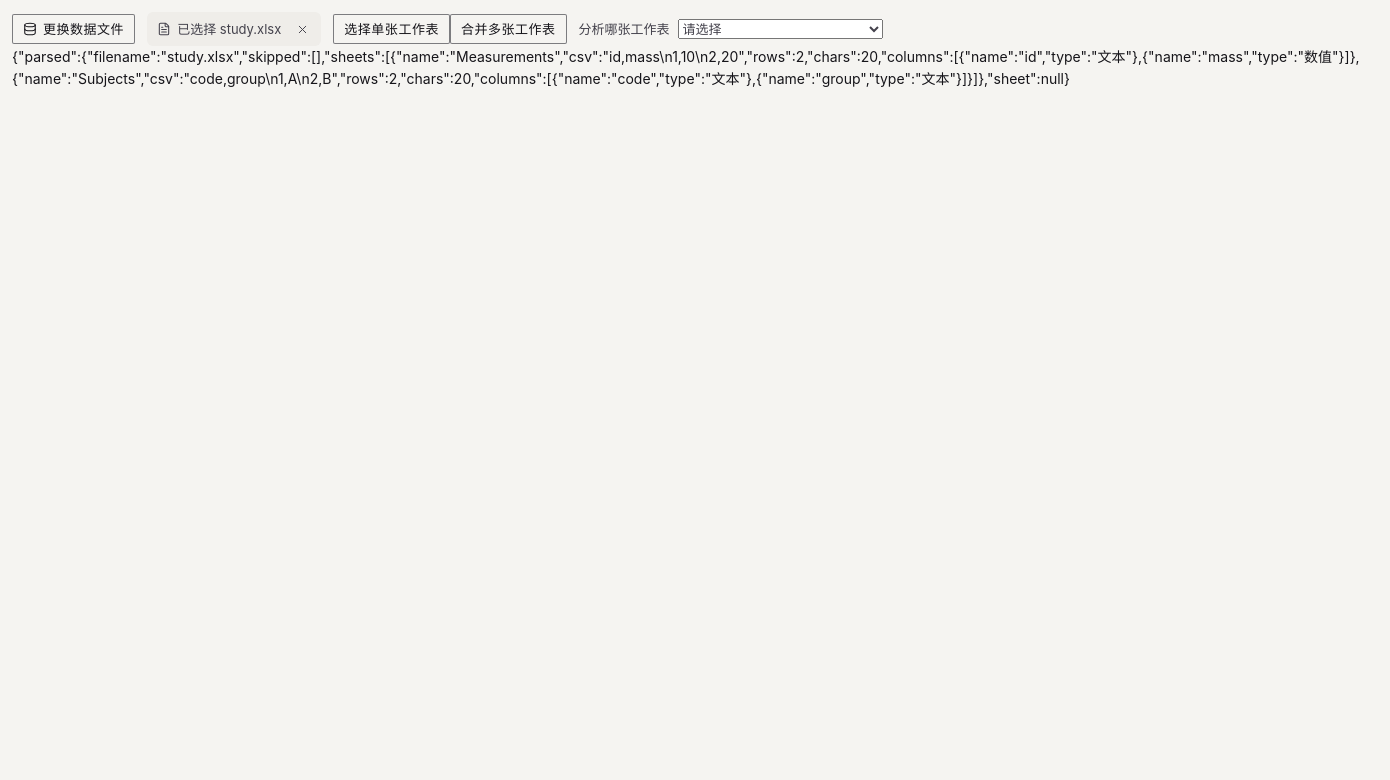
Test: keeps failed joins unavailable for task creation and displays the reason
Click the button "合并多张工作表": [508, 29] box [450, 14, 567, 44]
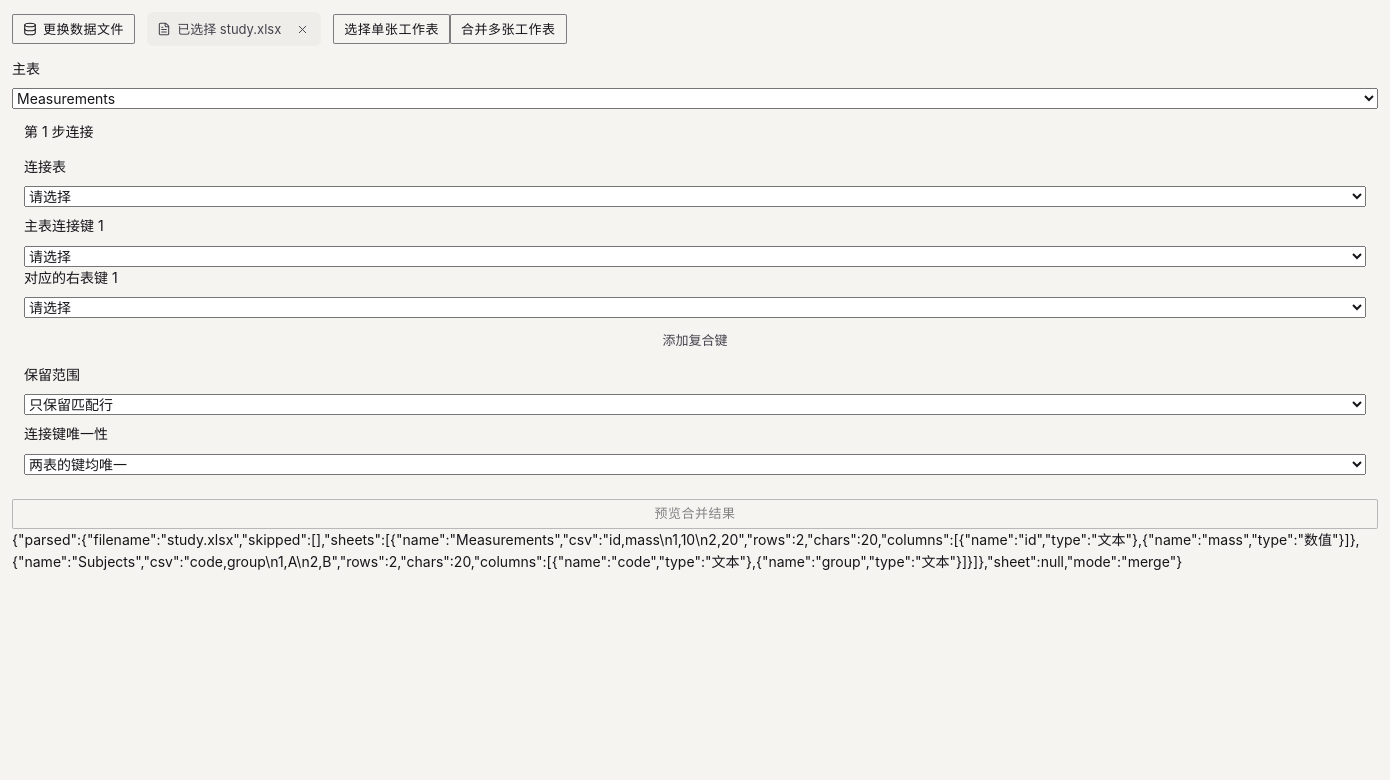
Select "Subjects" in the dropdown named "连接表 第1步": [695, 197] box [24, 186, 1366, 207]
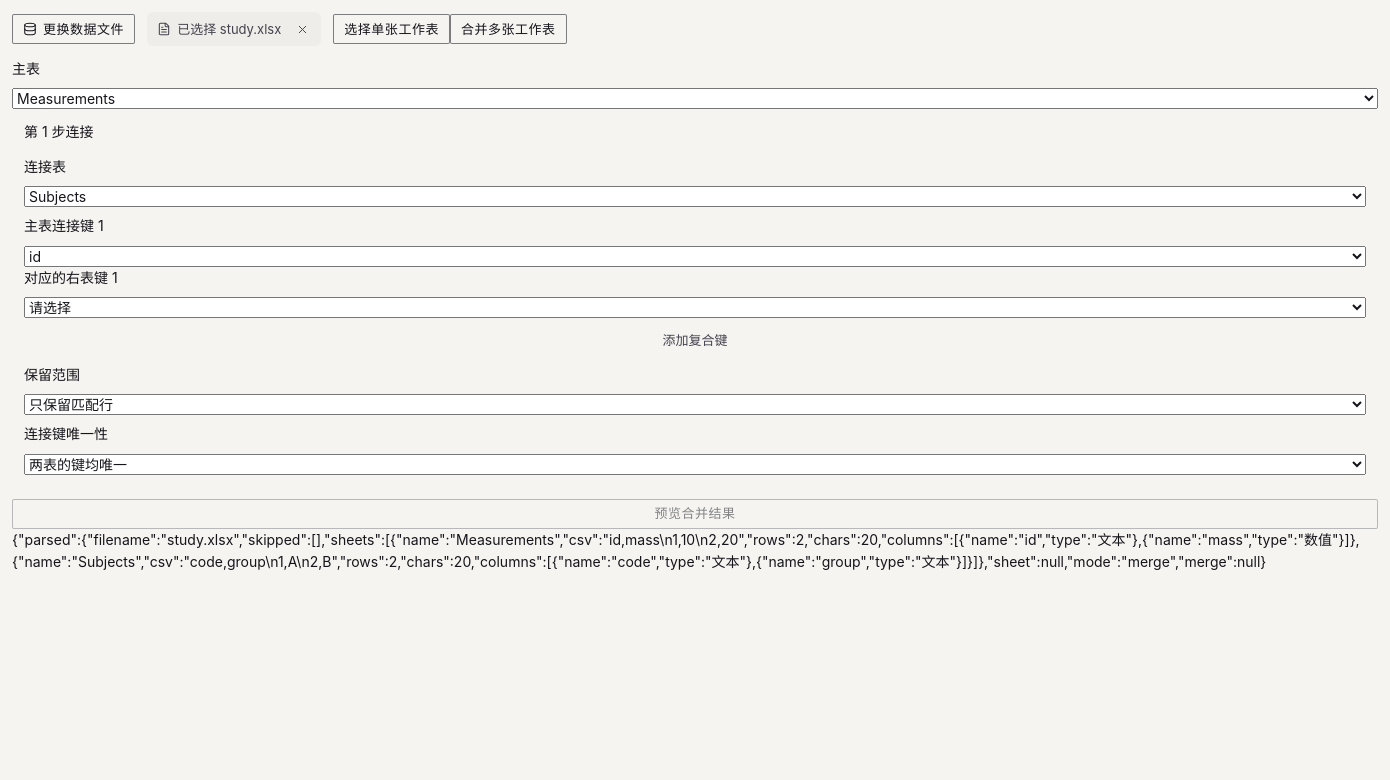
Select "id" in the dropdown named "主表连接键 第1步": [695, 256] box [24, 246, 1366, 267]
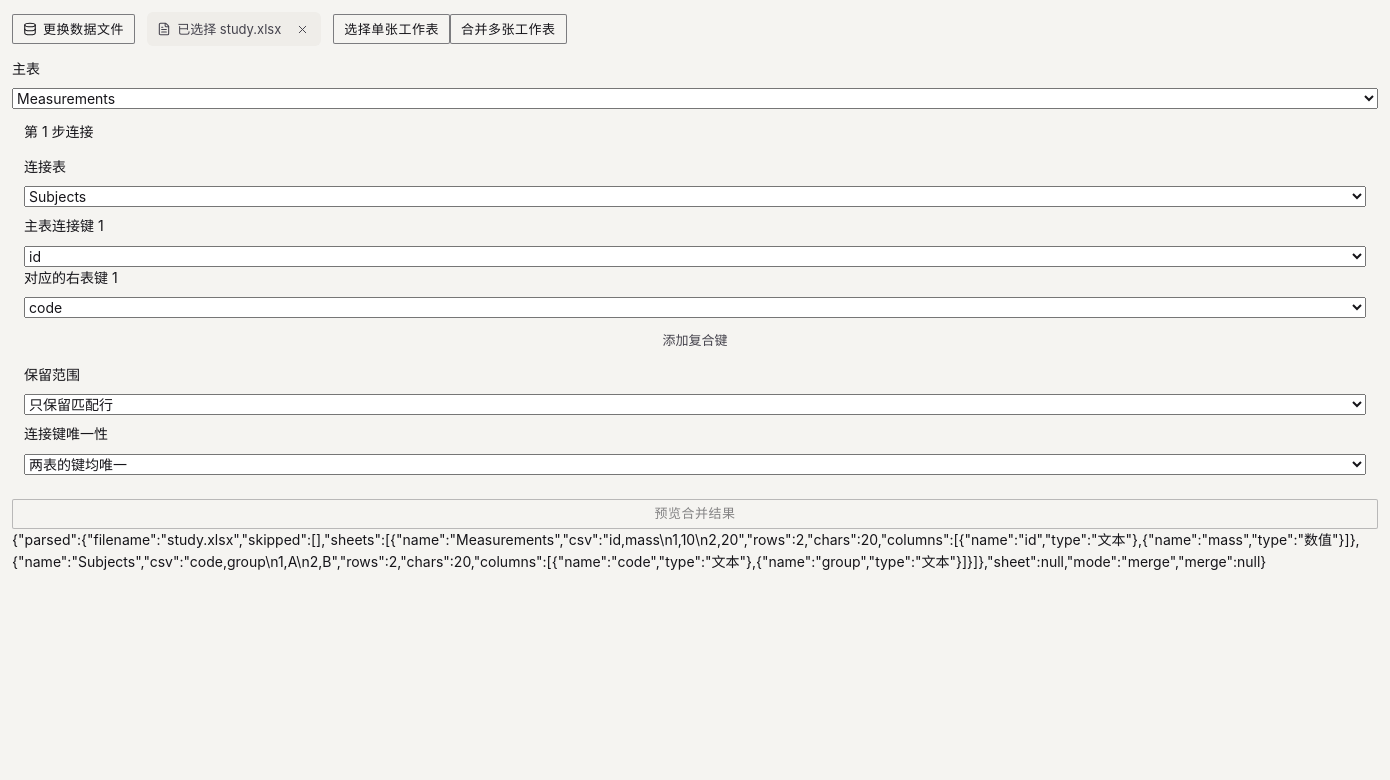
Select "code" in the dropdown named "右表连接键 第1步": [695, 308] box [24, 297, 1366, 318]
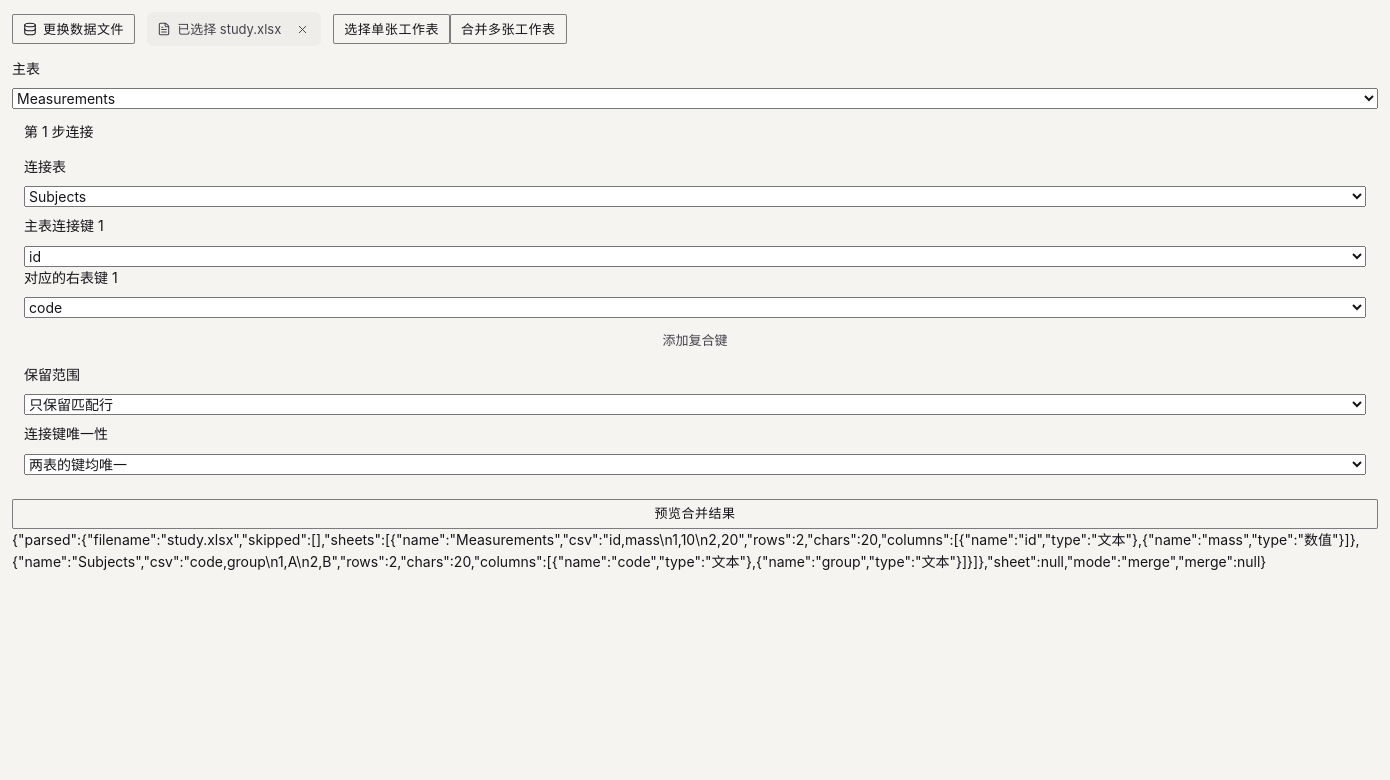
Click the button "预览合并结果": [695, 514] box [12, 499, 1378, 529]
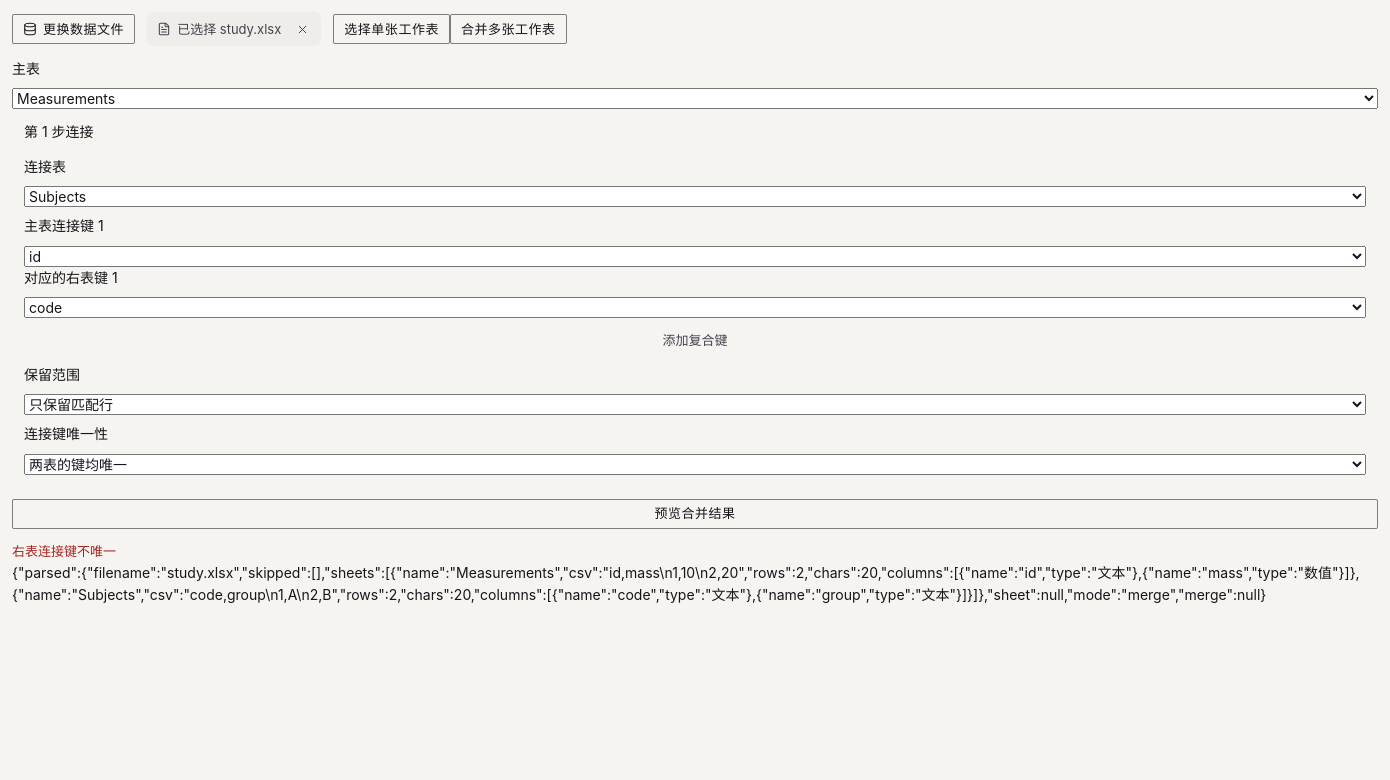
Expected: the message reads "右表连接键不唯一", [12, 543, 116, 559]
